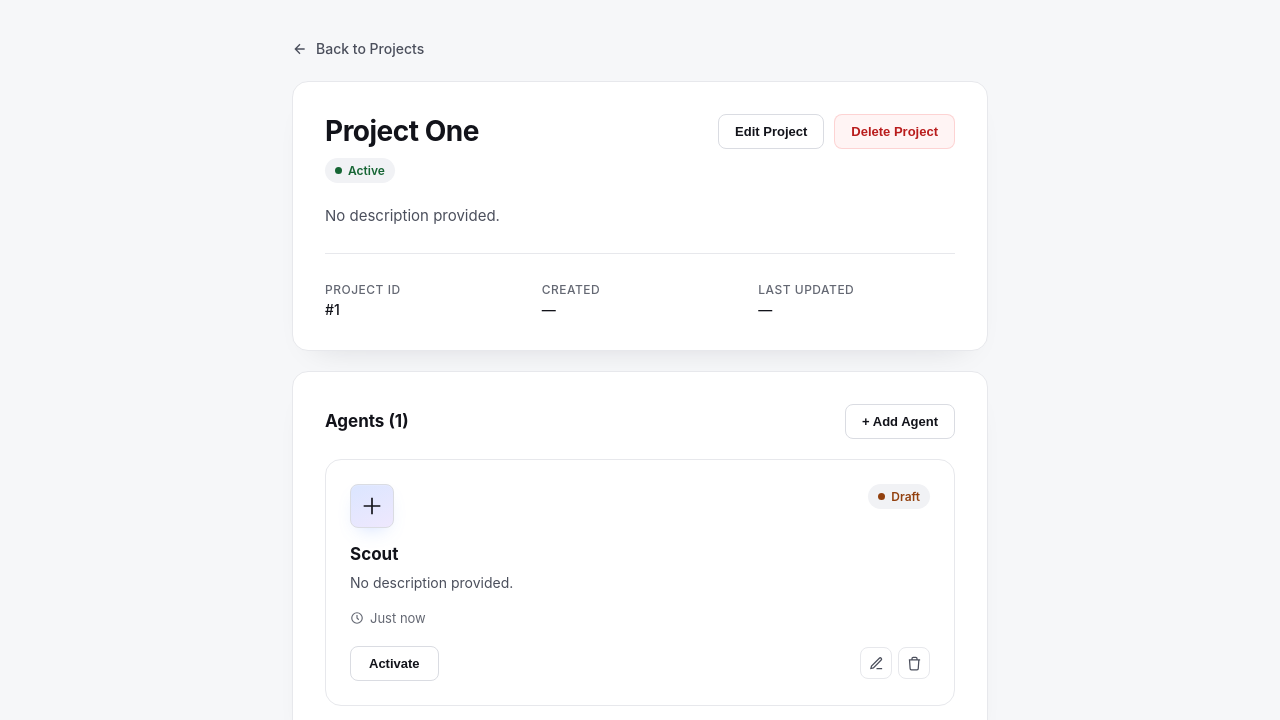
Test: ProjectDetails — mutations sync the shared caches › deleting an agent here removes it from the shared ["agents"] cache
Check: the heading "Scout" is shown, box [350,544,398,564]
Click the button named "Delete Scout" at (914, 663), box [898,647,930,679]
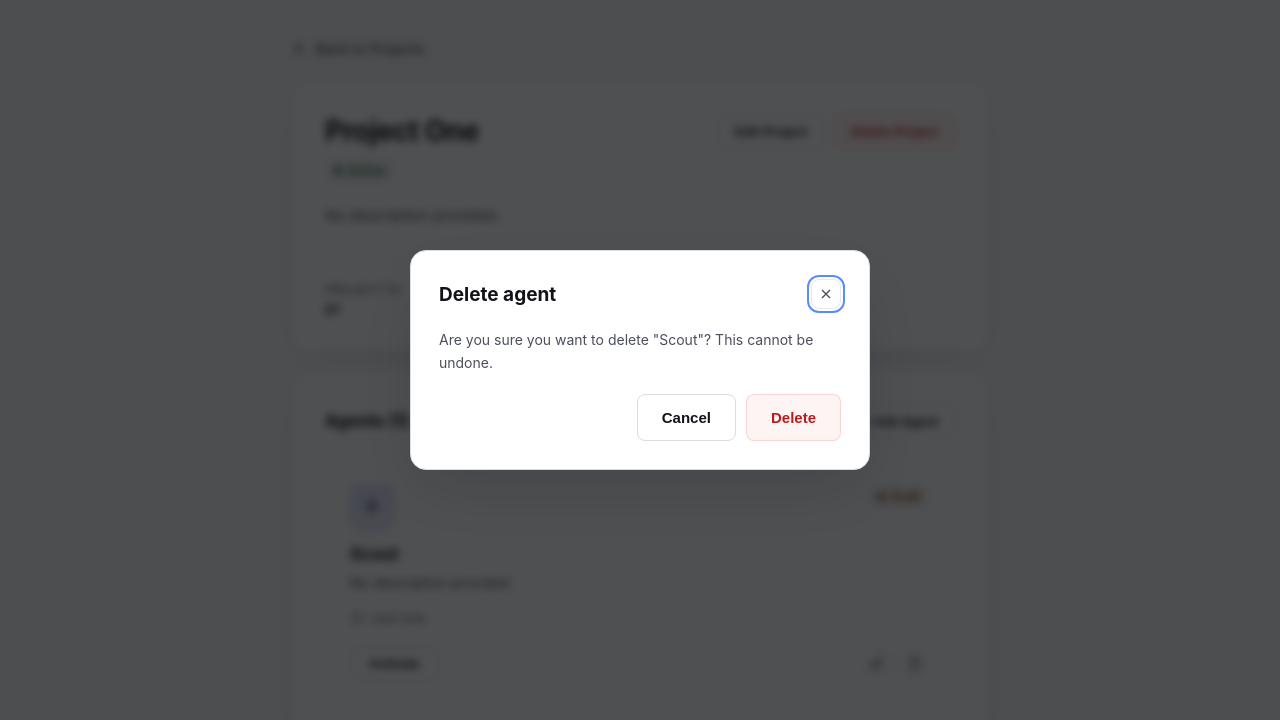
Click the button "Delete" at (794, 417), box [746,394,841,441]
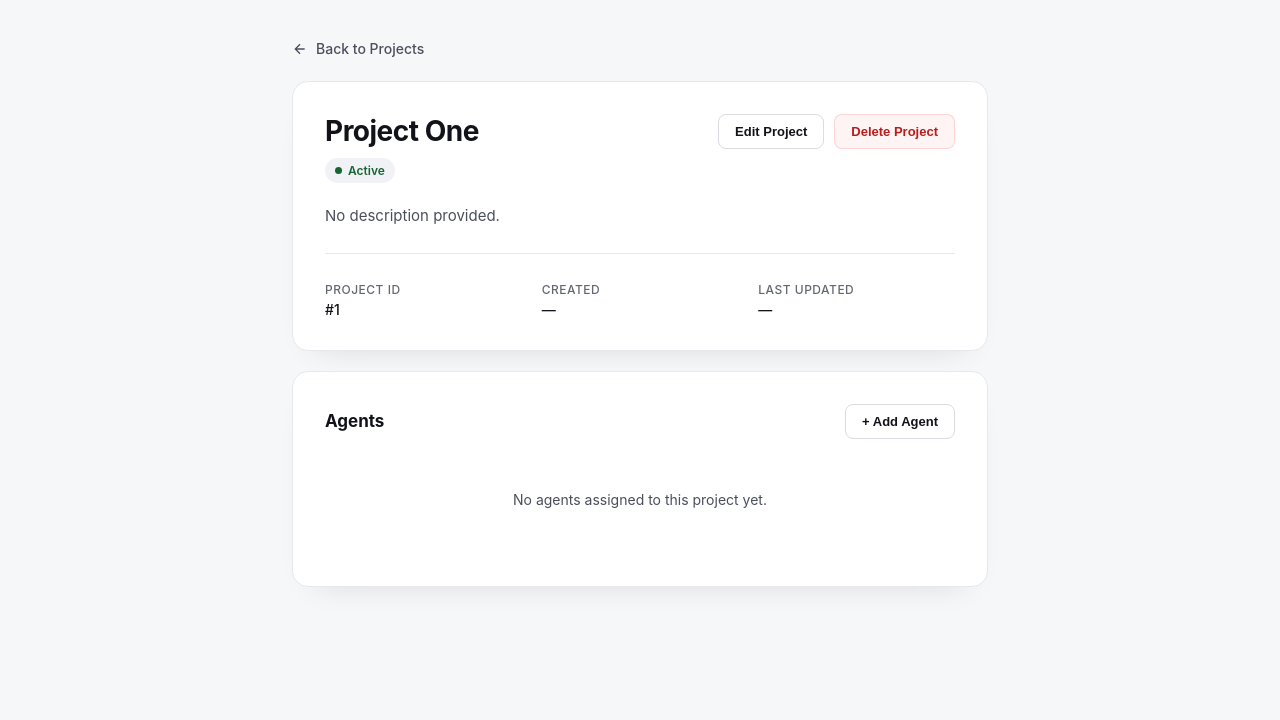
Check: the heading "Scout" is gone
